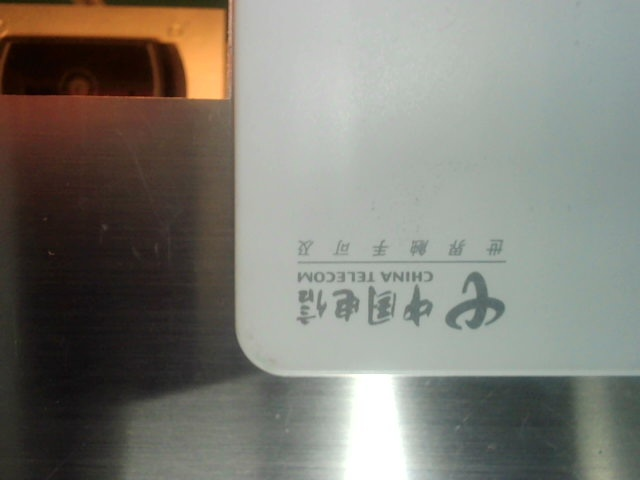AB_ChinaTelecom: (287, 236, 513, 334)
